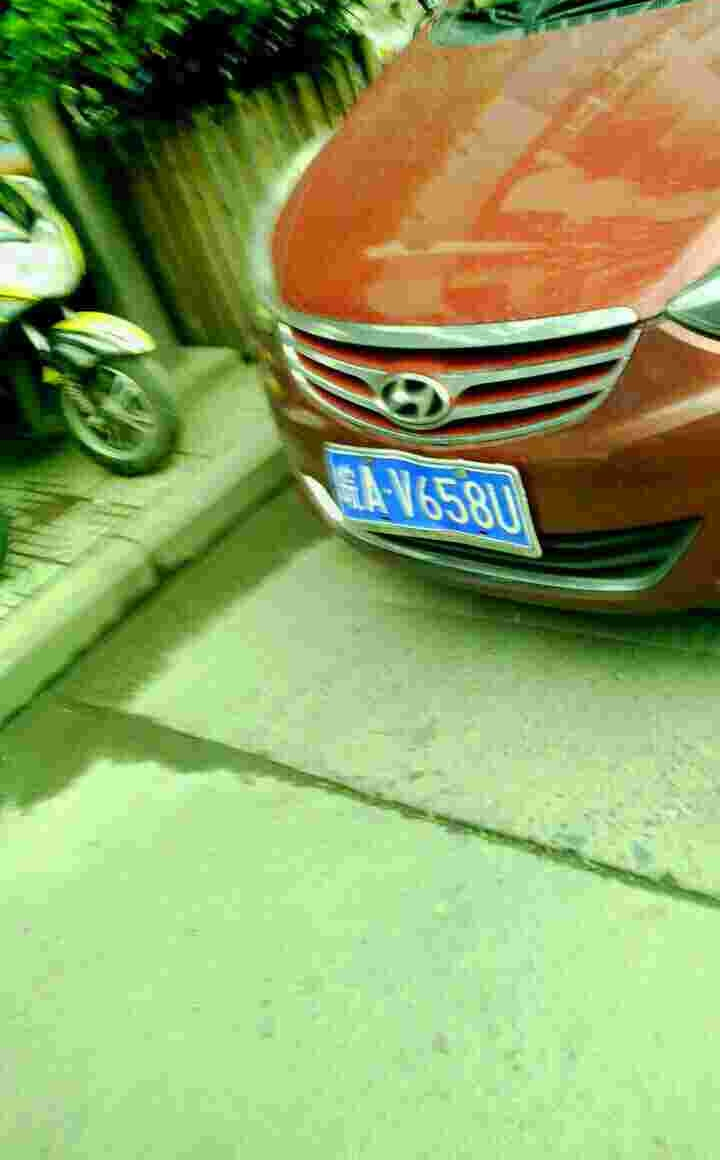license_plate: (335, 458, 528, 549)
